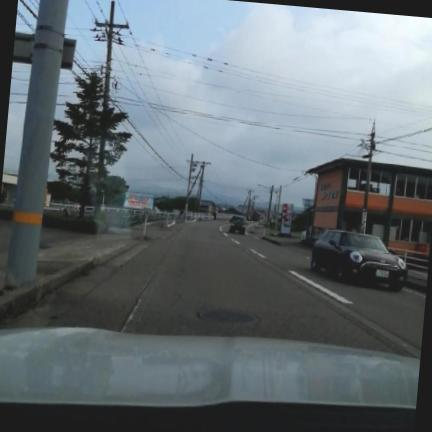Road: (6, 220, 425, 356)
